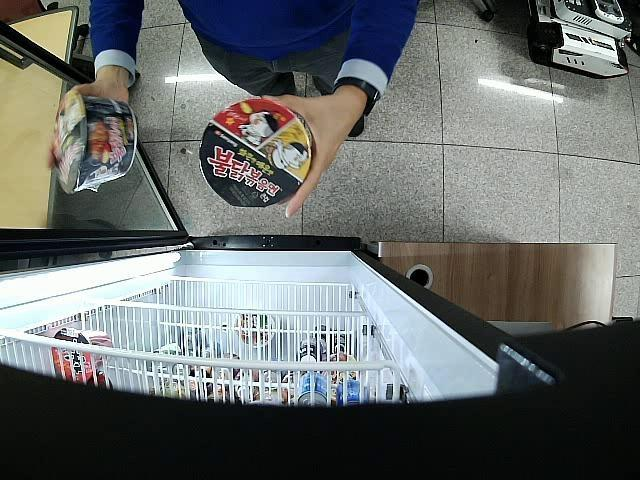07_buldak_L: (198, 99, 316, 208), (54, 92, 138, 194)
